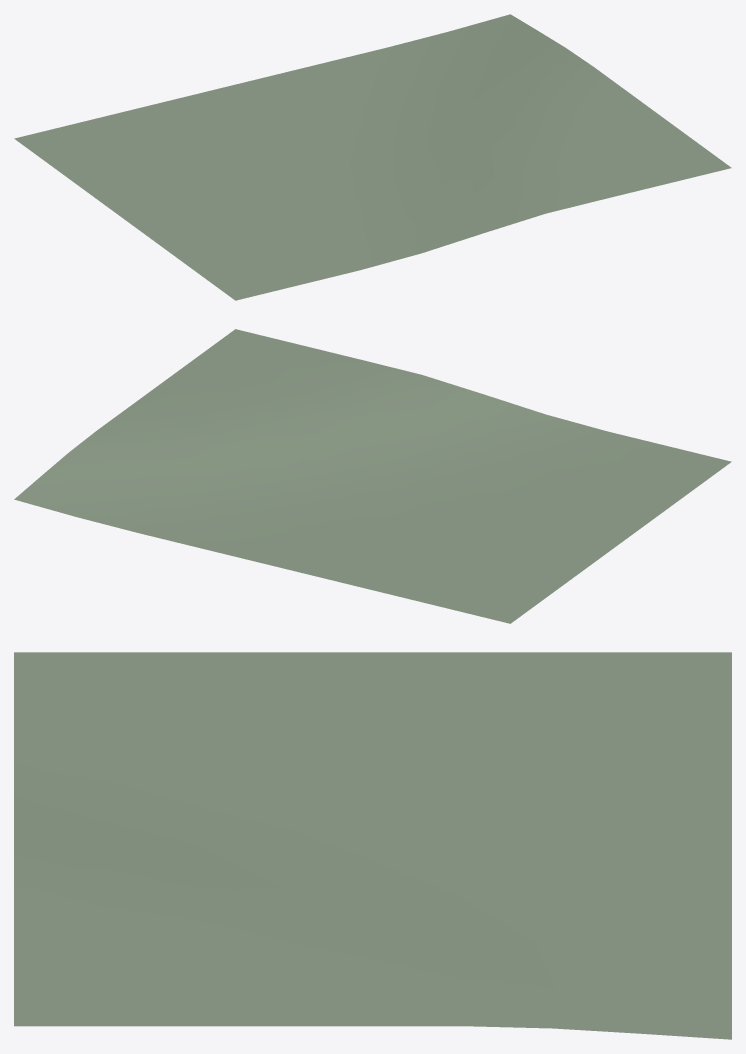
The model's file is chunk_0_0_LOD2.glb.
3 views of the same model, one above another, from view 1: azimuth 30°, elevation 25°; view 2: azimuth 150°, elevation 25°; view 3: azimuth 270°, elevation 25° (orthographic). The views are drawn at different scales.
Size of the model in its own units: 110 by 2.45 by 85.
